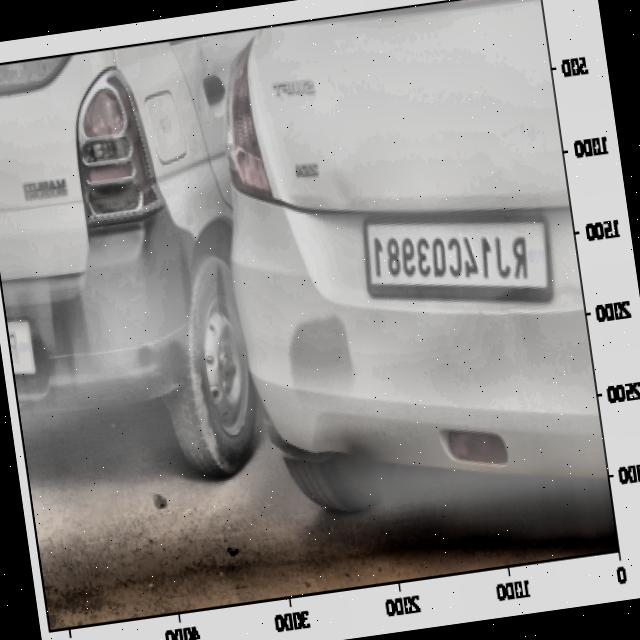license_plate: (364, 210, 541, 312)
